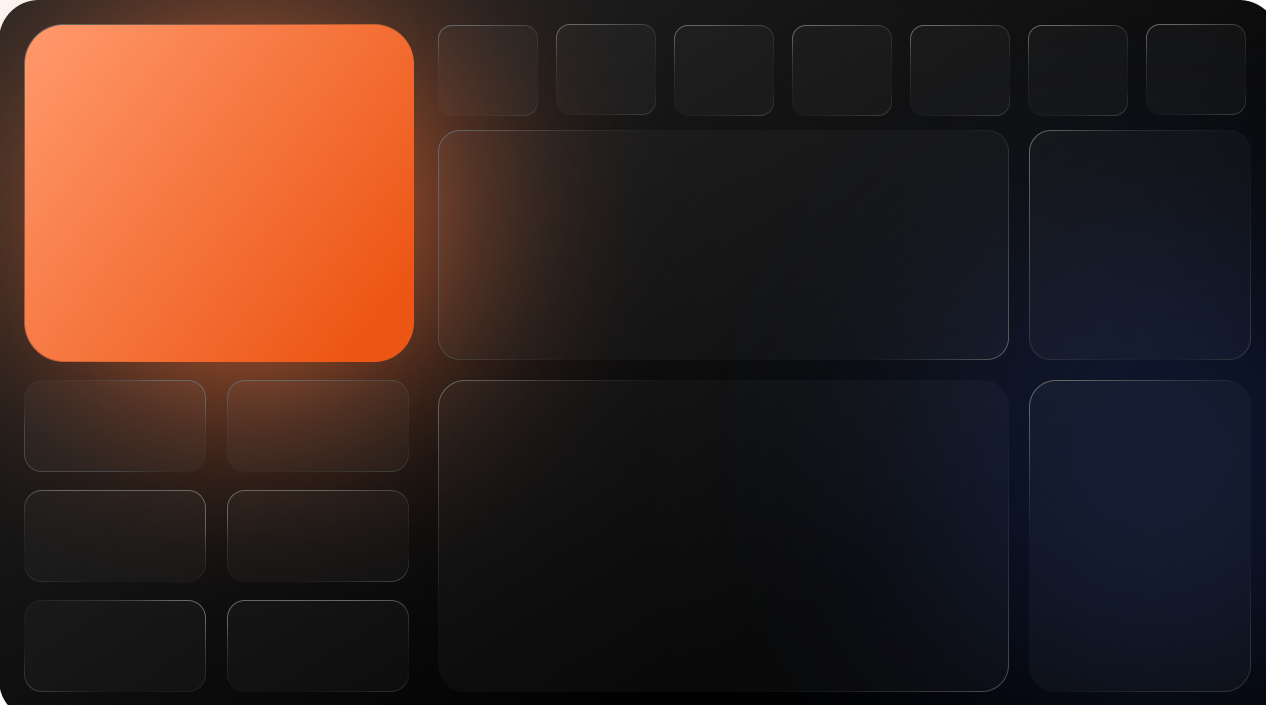

Layout of this report page (visuals, bound fields, positions):
{"tool":"powerbi","page":{"name":"Page 1","canvas":[1280,720],"ordinal":0},"visuals":[{"type":"advancedSlicerVisual","fields":{"Values":["City.location.name"]},"box":[36.5,260.8,356.6,123.5],"z":0},{"type":"shape","box":[22.7,137.4,156.3,109.6],"z":1000},{"type":"shape","box":[27.7,223,304.9,46.6],"z":2000},{"type":"shape","box":[73.1,31.5,129.8,46.6],"z":3000},{"type":"shape","box":[264.6,31.5,128.5,46.6],"z":4000},{"type":"image","box":[27.7,36.5,47.9,37.8],"z":5000},{"type":"cardVisual","fields":{"Data":["Min(current.current.condition.icon)"]},"box":[20.2,68,129.8,105.8],"z":6000},{"type":"shape","box":[73.1,399.4,86.9,36.5],"z":7000},{"type":"image","box":[27.7,402,40.3,30.2],"z":8000},{"type":"shape","box":[278.5,395.7,114.7,36.5],"z":9000},{"type":"image","box":[238.2,402,40.3,30.2],"z":10000},{"type":"shape","box":[278.5,516.6,115.9,35.3],"z":11000},{"type":"shape","box":[274.7,626.3,115.9,35.3],"z":12000},{"type":"shape","box":[64.3,631.3,115.9,35.3],"z":13000},{"type":"shape","box":[73.1,516.6,114.7,36.5],"z":14000},{"type":"image","box":[238.2,519.2,40.3,30.2],"z":15000},{"type":"image","box":[238.2,628.8,40.3,30.2],"z":16000},{"type":"image","box":[27.7,520.4,40.3,31.5],"z":17000},{"type":"image","box":[22.7,631.3,40.3,30.2],"z":18000},{"type":"card","fields":{"Values":["Sum(current.current.humidity)"]},"box":[62.4,424.3,106.4,64.8],"z":19000},{"type":"card","fields":{"Values":["Sum(current.current.wind_kph)"]},"box":[264.1,423.1,105.2,66],"z":20000},{"type":"card","fields":{"Values":["Sum(current.current.vis_miles)"]},"box":[51.4,542.9,106.4,66],"z":21000},{"type":"card","fields":{"Values":["Sum(current.current.pressure_in)"]},"box":[264.1,542.9,105.2,66],"z":22000},{"type":"card","fields":{"Values":["Sum(current.current.air_quality.gb-defra-index)"]},"box":[41.6,661.6,116.2,48.9],"z":23000},{"type":"card","fields":{"Values":["Sum(current.current.precip_in)"]},"box":[264.1,649.3,105.2,48.9],"z":24000},{"type":"advancedSlicerVisual","fields":{"Values":["Forcast_day.Day_Formated"]},"box":[441,31.5,839.2,105.8],"z":25000},{"type":"stackedAreaChart","fields":{"Y":["Sum(Forcast_day.forecast.forecastday.day.avgtemp_c)"],"Category":["Forcast_day.Day_Formated"]},"box":[455.1,149.6,574.2,210.4],"z":26000},{"type":"shape","box":[1187.4,211.6,78.3,42.8],"z":27000},{"type":"shape","box":[1187.4,179.8,92.9,42.8],"z":28000},{"type":"shape","box":[1187.4,244.6,92.9,30.6],"z":29000},{"type":"shape","box":[1187.4,269,78.3,34.2],"z":30000},{"type":"shape","box":[1083.4,137,182.2,42.8],"z":31000},{"type":"image","box":[1105.4,238.5,81.9,45.2],"z":32000},{"type":"image","box":[1105.4,185.9,81.9,31.8],"z":33000},{"type":"shape","box":[1062.6,375.4,203,42.8],"z":34000},{"type":"image","box":[1054.1,436.6,81.9,31.8],"z":35000},{"type":"shape","box":[1164.1,431.7,92.9,42.8],"z":36000},{"type":"shape","box":[1173.9,520.9,92.9,42.8],"z":37000},{"type":"shape","box":[1188.6,552.7,78.3,48.9],"z":38000},{"type":"shape","box":[1187.4,464.7,78.3,48.9],"z":39000},{"type":"shape","box":[454.9,376.6,170,42.8],"z":40000},{"type":"card","fields":{"Values":["Sum(current.current.air_quality.co)"]},"box":[756.9,457.3,103.9,64.8],"z":41000},{"type":"donutChart","fields":{"Y":["Sum(current.current.air_quality.co)"],"Category":["City.location.name"]},"box":[501.4,429.2,408.4,215.2],"z":42000}]}

Visuals, with their boxes in screenshot pixels (x1, y1, x2, y2), scaled from the page's 1280x720 canvas onto the 1266x705 screenshot:
advancedSlicerVisual - City.location.name: bbox=(36, 255, 389, 376)
shape: bbox=(22, 135, 177, 242)
shape: bbox=(27, 218, 329, 264)
shape: bbox=(72, 31, 201, 76)
shape: bbox=(262, 31, 389, 76)
image: bbox=(27, 36, 75, 73)
cardVisual - Min(current.current.condition.icon): bbox=(20, 67, 148, 170)
shape: bbox=(72, 391, 158, 427)
image: bbox=(27, 394, 67, 423)
shape: bbox=(275, 387, 389, 423)
image: bbox=(236, 394, 275, 423)
shape: bbox=(275, 506, 390, 540)
shape: bbox=(272, 613, 386, 648)
shape: bbox=(64, 618, 178, 653)
shape: bbox=(72, 506, 186, 542)
image: bbox=(236, 508, 275, 538)
image: bbox=(236, 616, 275, 645)
image: bbox=(27, 510, 67, 540)
image: bbox=(22, 618, 62, 648)
card - Sum(current.current.humidity): bbox=(62, 415, 167, 479)
card - Sum(current.current.wind_kph): bbox=(261, 414, 365, 479)
card - Sum(current.current.vis_miles): bbox=(51, 532, 156, 596)
card - Sum(current.current.pressure_in): bbox=(261, 532, 365, 596)
card - Sum(current.current.air_quality.gb-defra-index): bbox=(41, 648, 156, 696)
card - Sum(current.current.precip_in): bbox=(261, 636, 365, 684)
advancedSlicerVisual - Forcast_day.Day_Formated: bbox=(436, 31, 1265, 134)
stackedAreaChart - Sum(Forcast_day.forecast.forecastday.day.avgtemp_c) x Forcast_day.Day_Formated: bbox=(450, 146, 1018, 352)
shape: bbox=(1174, 207, 1252, 249)
shape: bbox=(1174, 176, 1265, 218)
shape: bbox=(1174, 240, 1265, 269)
shape: bbox=(1174, 263, 1252, 297)
shape: bbox=(1072, 134, 1252, 176)
image: bbox=(1093, 234, 1174, 278)
image: bbox=(1093, 182, 1174, 213)
shape: bbox=(1051, 368, 1252, 409)
image: bbox=(1043, 428, 1124, 459)
shape: bbox=(1151, 423, 1243, 465)
shape: bbox=(1161, 510, 1253, 552)
shape: bbox=(1176, 541, 1253, 589)
shape: bbox=(1174, 455, 1252, 503)
shape: bbox=(450, 369, 618, 411)
card - Sum(current.current.air_quality.co): bbox=(749, 448, 851, 511)
donutChart - Sum(current.current.air_quality.co) x City.location.name: bbox=(496, 420, 900, 631)
